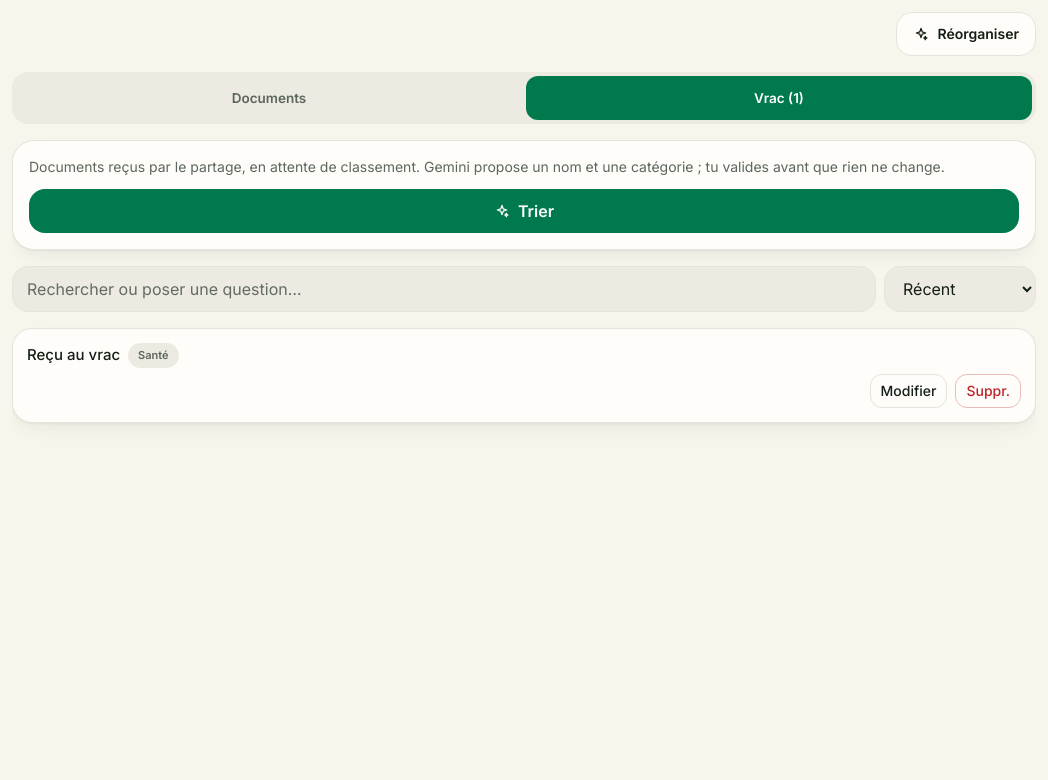
DocumentsBrowser : l'adresse fait foi › laisse basculer à la main entre Documents et Vrac sans que l'adresse ne le reprenne
This screenshot has width=1048, height=780.
Expected: the text "Documents reçus par le partage" is shown, [29,158,945,175]
Click the button "Documents" at (269, 98), box [16,76,522,120]
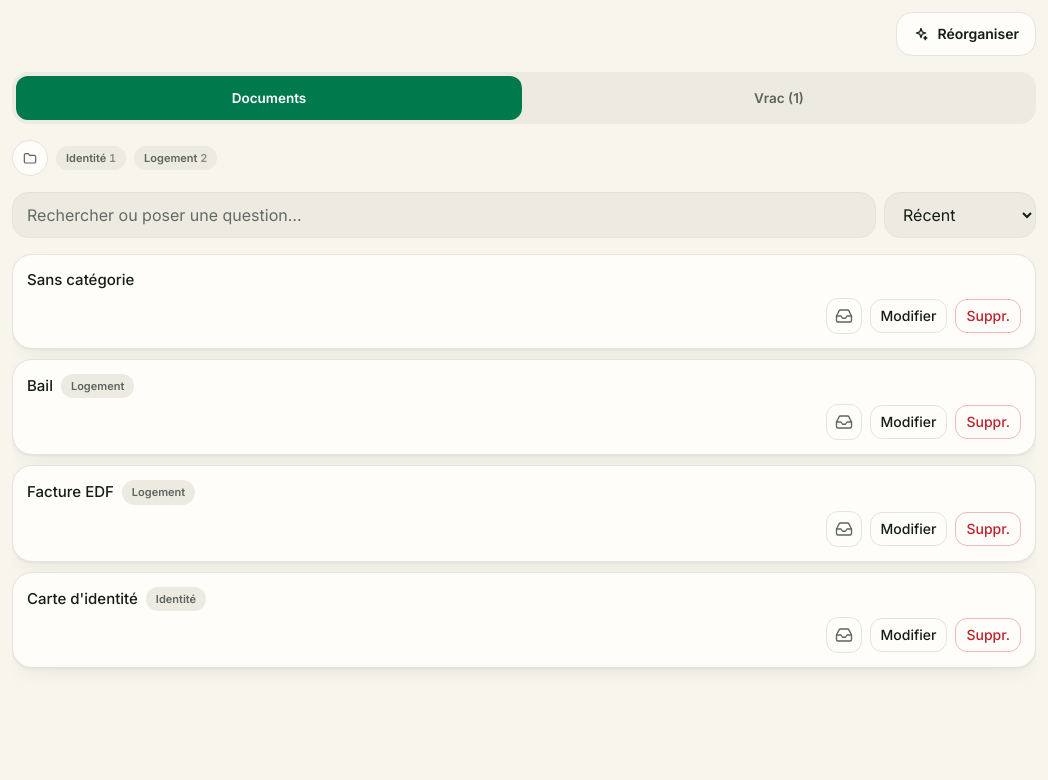
Expected: the text "Documents reçus par le partage" is gone
